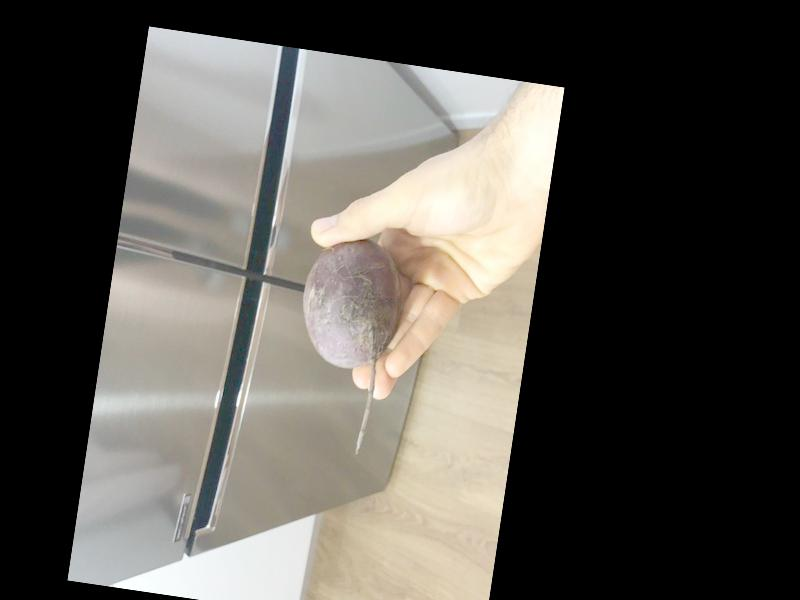Beet: (280, 232, 409, 458)
